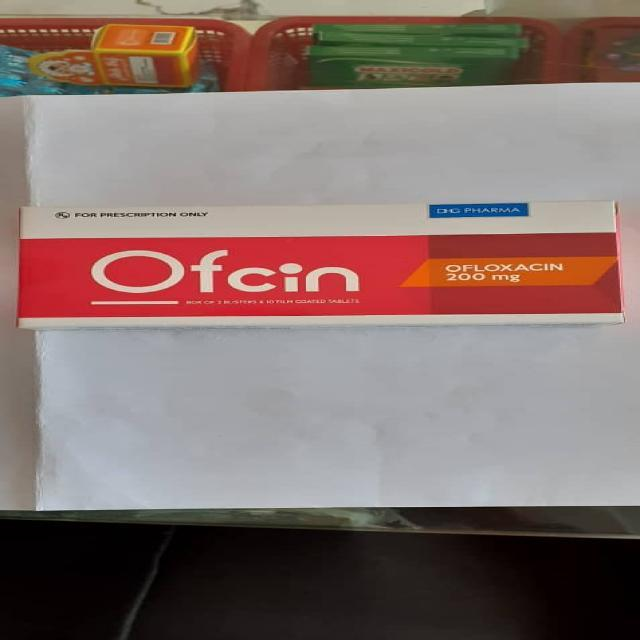drug-name: (88, 247, 366, 293)
